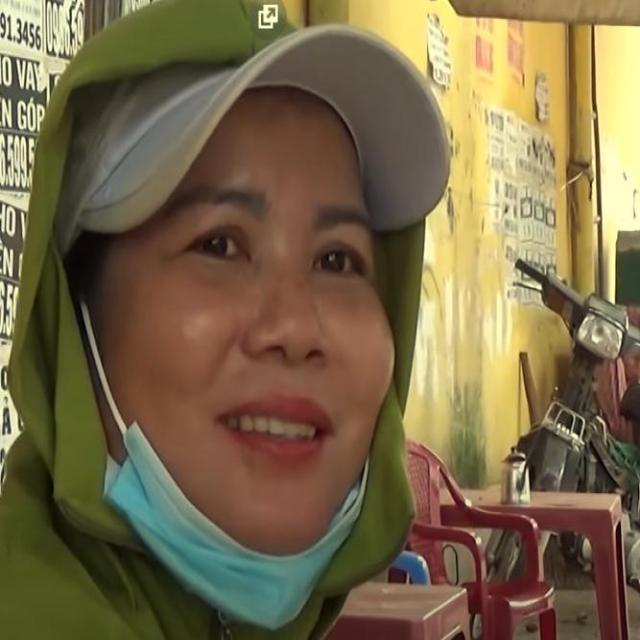hairnet: (114, 177, 372, 623)
